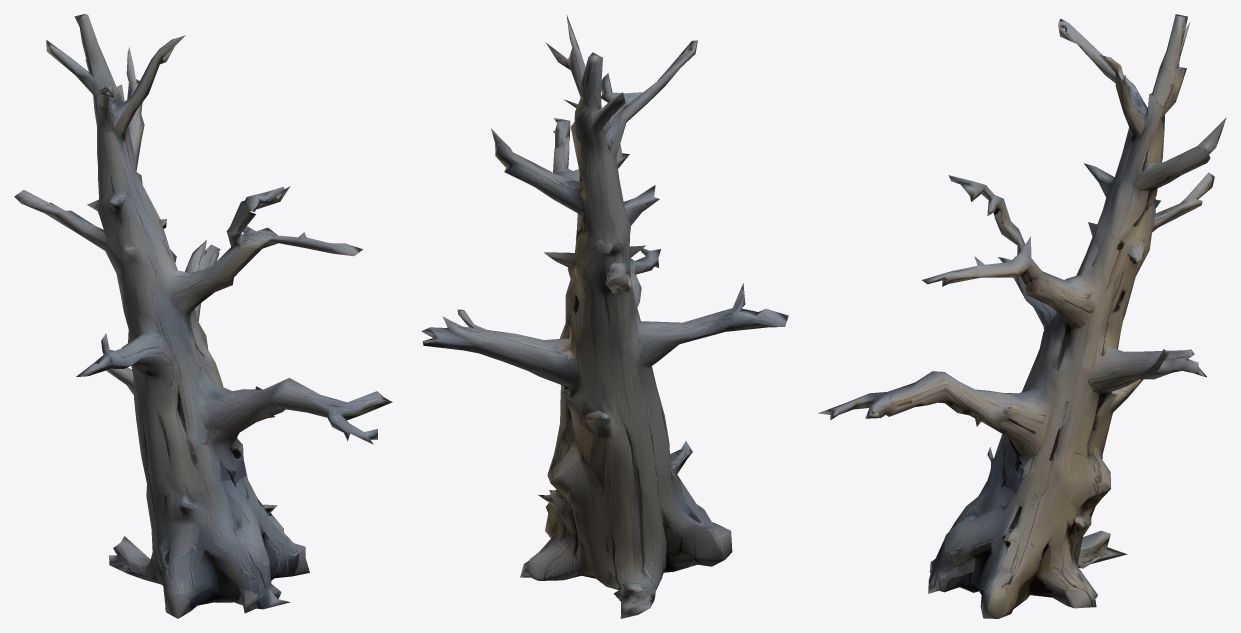
File: dead_tree.glb
3 views of the same model, side by side, from view 1: azimuth 30°, elevation 25°; view 2: azimuth 150°, elevation 25°; view 3: azimuth 270°, elevation 25° (orthographic). The views are drawn at different scales.
Parts seen in each view (by area): view 1: tripo_node_fa671301-c5cb-4fb2-92d2-ae30b3f9f467; view 2: tripo_node_fa671301-c5cb-4fb2-92d2-ae30b3f9f467; view 3: tripo_node_fa671301-c5cb-4fb2-92d2-ae30b3f9f467.
Part boxes in pixels (x1,y1,x2,y2): tripo_node_fa671301-c5cb-4fb2-92d2-ae30b3f9f467: [14, 14, 392, 618]; tripo_node_fa671301-c5cb-4fb2-92d2-ae30b3f9f467: [421, 15, 788, 618]; tripo_node_fa671301-c5cb-4fb2-92d2-ae30b3f9f467: [818, 14, 1226, 618].
Bounding box in the file's own units: 1.23 × 2.5 × 1.71.
Materials: 1 (1 with a texture image).
